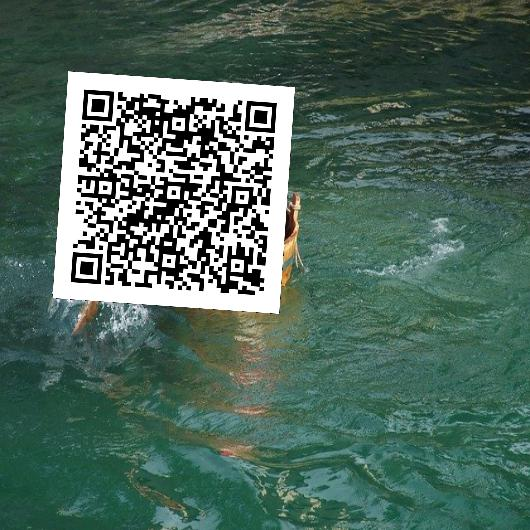qr_code: (52, 71, 294, 313)
